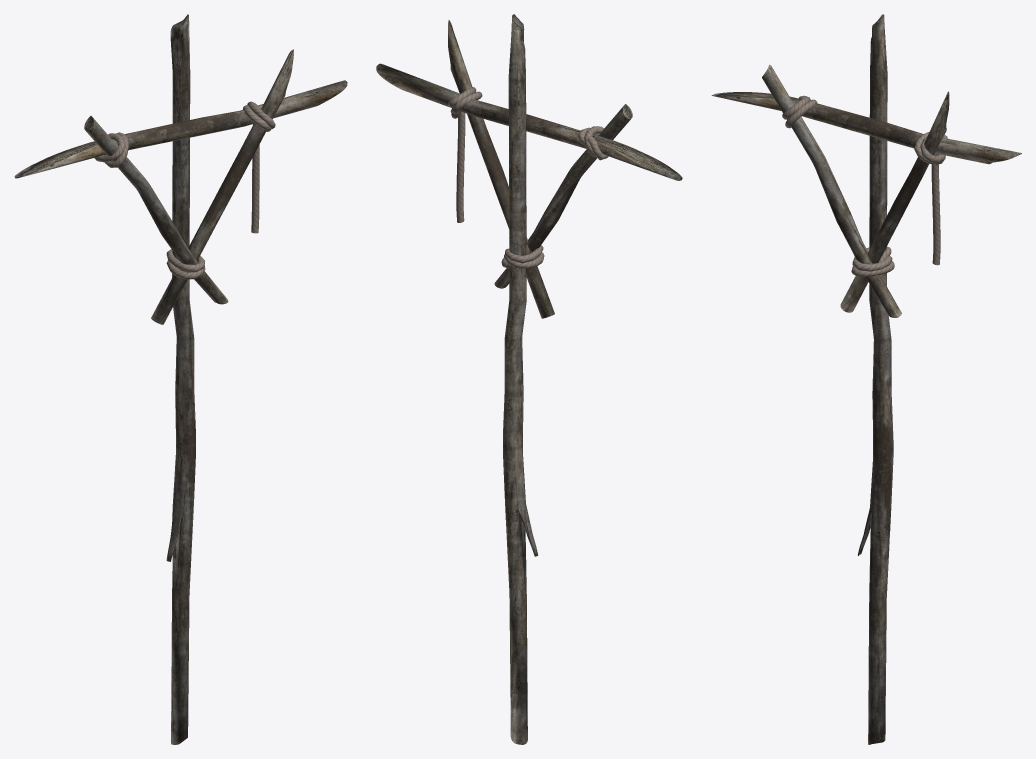
The model's file is SM_TwigTotems-3.fbx.
3 views of the same model, side by side, from view 1: azimuth 30°, elevation 25°; view 2: azimuth 150°, elevation 25°; view 3: azimuth 330°, elevation 25° (orthographic).
Parts seen in each view (by area): view 1: SM_TwigTotems-3_LOD0; view 2: SM_TwigTotems-3_LOD0; view 3: SM_TwigTotems-3_LOD0.
Boxes of the visible parts, <box> form: SM_TwigTotems-3_LOD0: <box>14,14,347,744</box>; SM_TwigTotems-3_LOD0: <box>376,14,682,744</box>; SM_TwigTotems-3_LOD0: <box>711,14,1021,744</box>.
Bounding box in the file's own units: 91.94 × 15.12 × 201.
